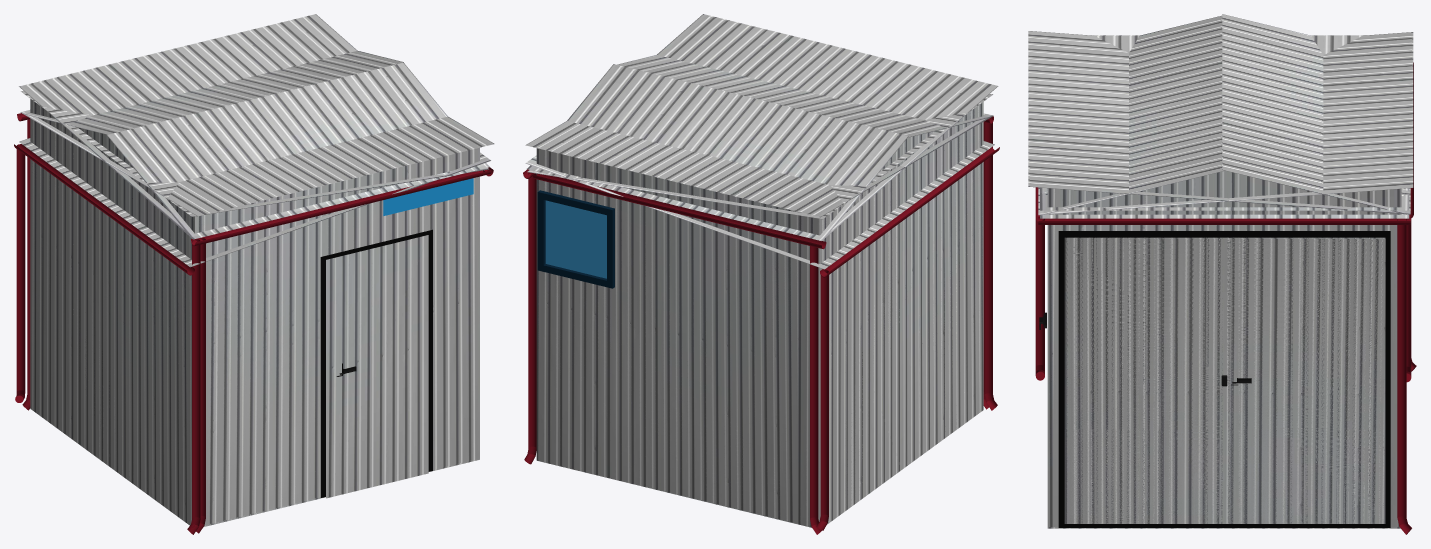
Rendered from garaze2.glb.
3 renders of one model, left to right at view 1: azimuth 30°, elevation 25°; view 2: azimuth 150°, elevation 25°; view 3: azimuth 270°, elevation 25°, orthographic. The views are drawn at different scales.
Visible parts, largest first — view 1: bryla, bryla1, bryla2, bryla4, drzwi-male-bok, dach4, dach2, dach3, bryla3, dach4v2, dzwi-male-obramowka, dach (+9 smaller); view 2: bryla, bryla1, bryla4, dach4v2, dach3, bryla2, bryla3, dach2, Okienko, dach4, dach, spust1 (+7 smaller); view 3: dzwi-calosc, podwojnedzwi-front.001, dach3, dach4v2, dach4, dach2, bryla, ramka.003, bryla4, bryla2, bryla3, spust1 (+6 smaller).
Boxes of the visible parts, x1=… form: bryla: x1=30, y1=173, x2=479, y2=526; bryla1: x1=30, y1=99, x2=479, y2=526; bryla2: x1=30, y1=111, x2=479, y2=526; bryla4: x1=30, y1=124, x2=479, y2=524; drzwi-male-bok: x1=326, y1=235, x2=428, y2=498; dach4: x1=106, y1=62, x2=487, y2=238; dach2: x1=19, y1=14, x2=489, y2=239; dach3: x1=20, y1=110, x2=494, y2=216; bryla3: x1=30, y1=147, x2=479, y2=523; dach4v2: x1=23, y1=51, x2=403, y2=134; dzwi-male-obramowka: x1=320, y1=229, x2=432, y2=497; dach: x1=19, y1=138, x2=490, y2=267; bryla: x1=536, y1=174, x2=983, y2=527; bryla1: x1=536, y1=112, x2=983, y2=527; bryla4: x1=820, y1=122, x2=983, y2=523; dach4v2: x1=529, y1=64, x2=908, y2=239; dach3: x1=526, y1=14, x2=998, y2=240; bryla2: x1=536, y1=148, x2=983, y2=526; bryla3: x1=536, y1=102, x2=983, y2=522; dach2: x1=525, y1=113, x2=993, y2=217; Okienko: x1=537, y1=190, x2=614, y2=288; dach4: x1=617, y1=55, x2=990, y2=137; dach: x1=525, y1=141, x2=994, y2=269; spust1: x1=524, y1=172, x2=536, y2=464; dzwi-calosc: x1=1064, y1=237, x2=1384, y2=523; podwojnedzwi-front.001: x1=1064, y1=237, x2=1385, y2=523; dach3: x1=1028, y1=31, x2=1410, y2=214; dach4v2: x1=1222, y1=14, x2=1406, y2=214; dach4: x1=1041, y1=15, x2=1224, y2=215; dach2: x1=1038, y1=32, x2=1413, y2=215; bryla: x1=1047, y1=210, x2=1400, y2=528; ramka.003: x1=1058, y1=231, x2=1390, y2=527; bryla4: x1=1047, y1=171, x2=1399, y2=528; bryla2: x1=1047, y1=189, x2=1401, y2=528; bryla3: x1=1047, y1=188, x2=1399, y2=527; spust1: x1=1397, y1=218, x2=1411, y2=534.
Bounding box in the file's own units: 2.69 × 2.85 × 2.74.
Materials: 18 (7 with a texture image).
